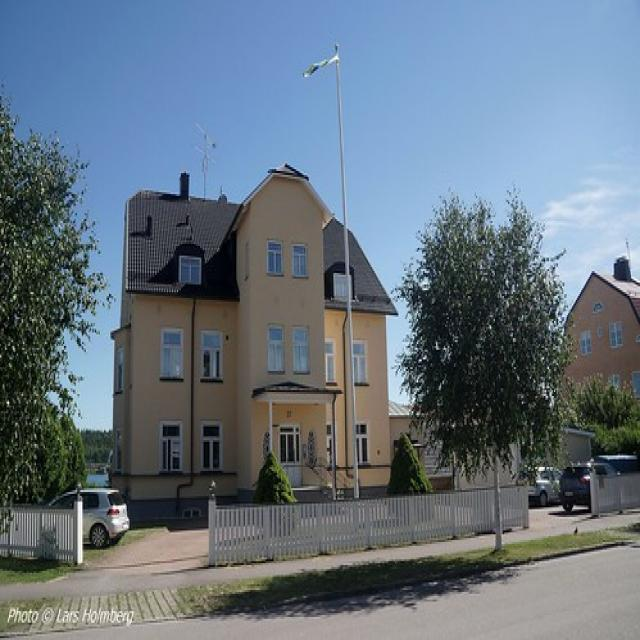Normal_building: (111, 157, 401, 510), (554, 268, 640, 462)
